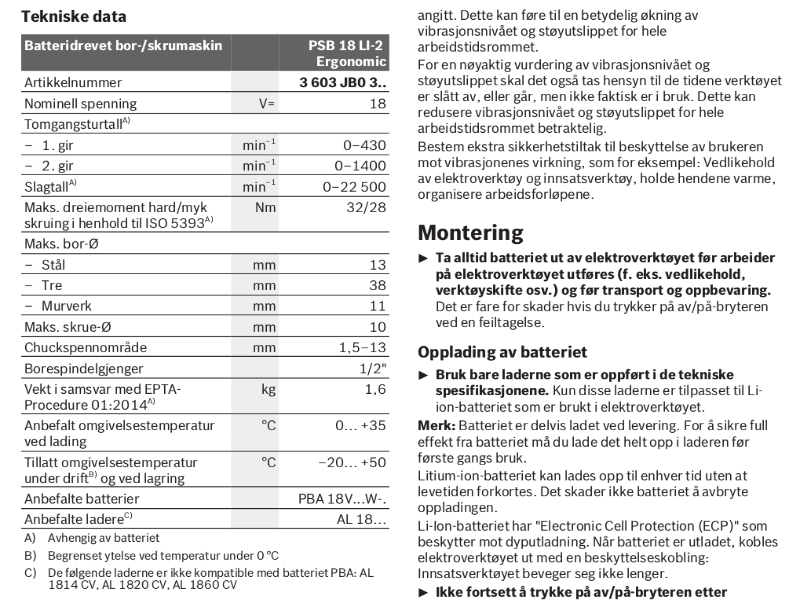borderless: (16, 30, 400, 596)
cell: (20, 530, 386, 591), (16, 415, 221, 448), (17, 452, 222, 485), (17, 199, 220, 230), (16, 381, 185, 411), (21, 37, 226, 55), (16, 490, 224, 505), (16, 509, 224, 524), (304, 37, 390, 68), (17, 338, 156, 355), (16, 358, 155, 375), (295, 488, 391, 507), (295, 508, 391, 527), (17, 317, 118, 335), (20, 97, 141, 112), (19, 117, 143, 131), (21, 73, 127, 89), (295, 73, 392, 89), (17, 233, 107, 250), (17, 254, 107, 271), (16, 275, 106, 292), (16, 296, 106, 313), (317, 453, 390, 473), (318, 176, 389, 194), (321, 154, 392, 172), (325, 133, 396, 151), (20, 138, 90, 155), (19, 156, 89, 173), (18, 177, 88, 194), (333, 416, 391, 432), (344, 196, 388, 216), (351, 253, 395, 273), (238, 251, 282, 271), (238, 274, 282, 294), (237, 294, 281, 314), (237, 315, 281, 335), (237, 337, 281, 357), (236, 380, 280, 400), (234, 415, 278, 435), (233, 452, 277, 472), (351, 274, 395, 294), (351, 294, 395, 314), (351, 315, 395, 335), (338, 338, 392, 353), (339, 359, 393, 374), (339, 380, 393, 395), (239, 93, 279, 110), (237, 135, 277, 152), (237, 156, 277, 173), (237, 176, 277, 193), (237, 198, 277, 215), (355, 94, 393, 110)
